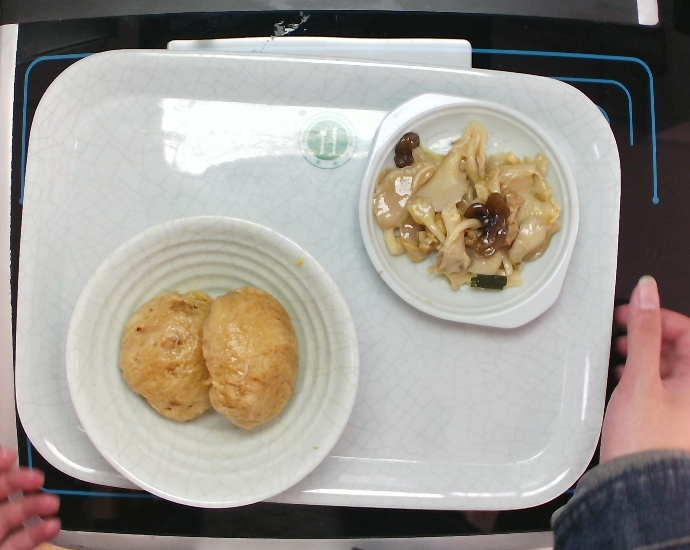JYsf-Shuang_Er_Pan: (355, 87, 582, 332)
JYsf-Xiao_Tang_Wan: (62, 215, 361, 514)
